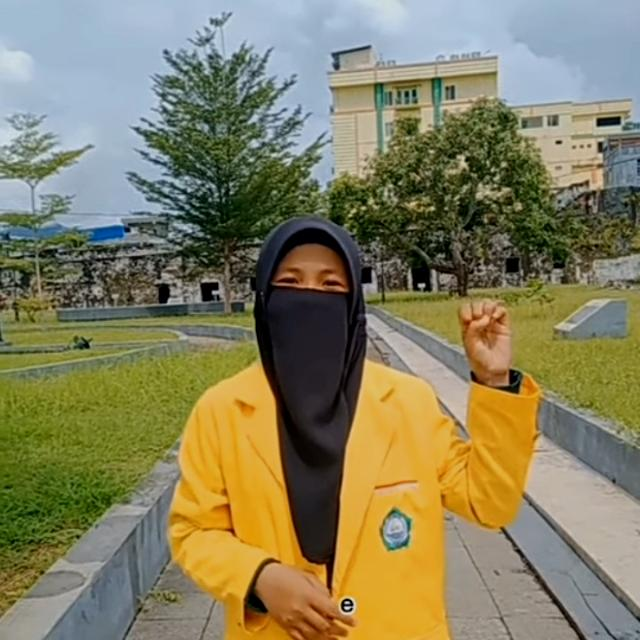E: (454, 295, 520, 387)
